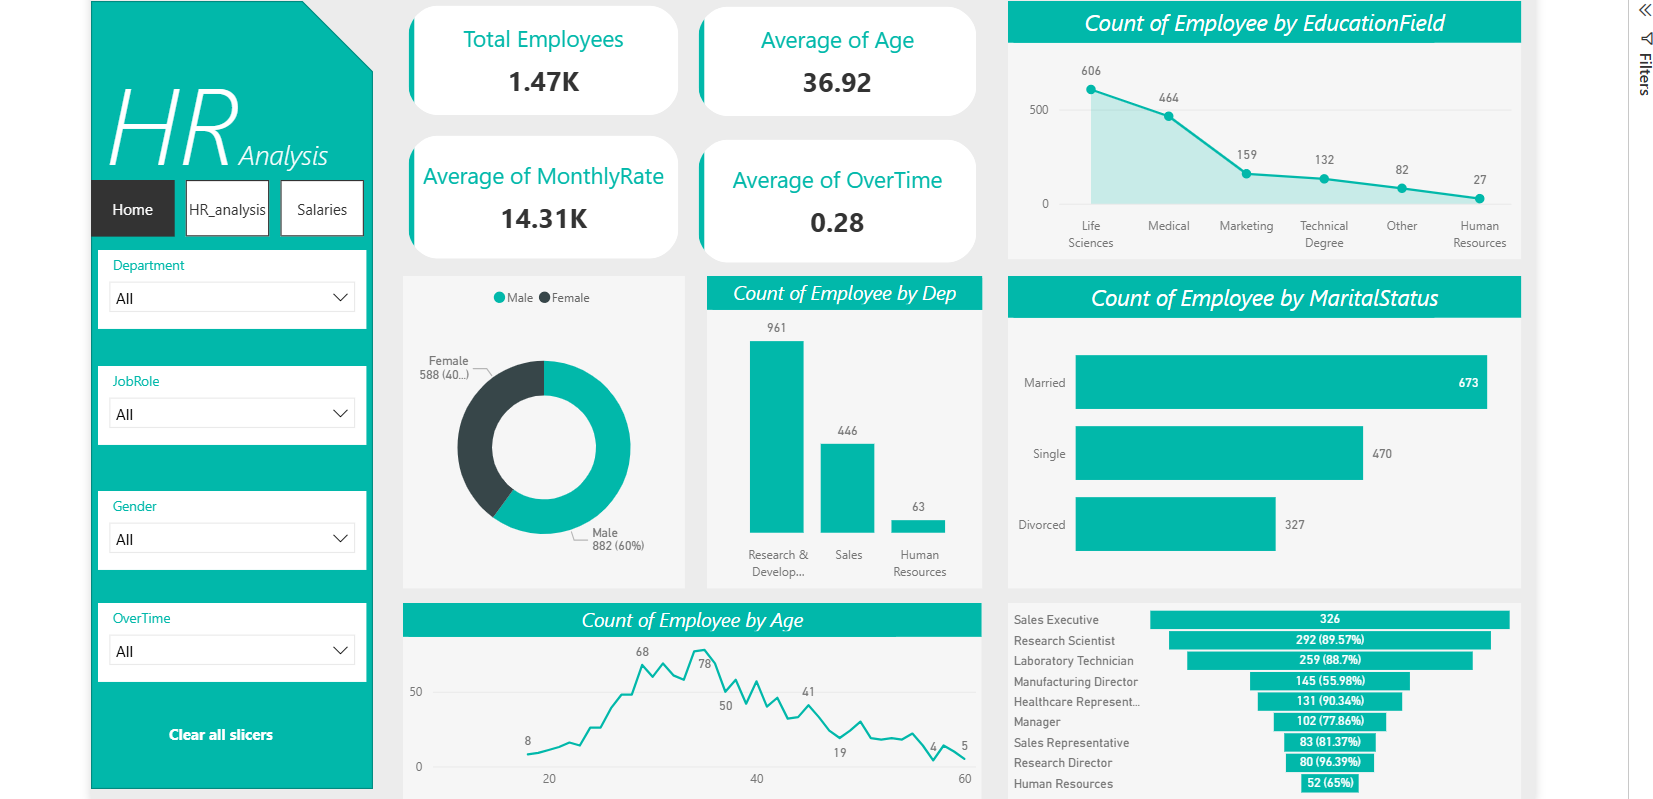

The dashboard page shown, as its layout file describes it:
{"tool":"powerbi","page":{"name":"HR_analysis","canvas":[1280,720],"ordinal":0},"visuals":[{"type":"cardVisual","title":"Total Employees","fields":{"Data":["CountNonNull(Cleaned Data.EmployeeID)"]},"box":[276.7,8,249.2,107.3],"z":0},{"type":"cardVisual","title":"Average Age","fields":{"Data":["Avg(Cleaned Data.Age)"]},"box":[533.8,8.9,256.3,107.3],"z":1000},{"type":"cardVisual","title":"Average of MonthRate","fields":{"Data":["Avg(Cleaned Data.MonthlyRate)"]},"box":[276.7,123.3,249.2,119.7],"z":2000},{"type":"cardVisual","title":"Average Of overtime","fields":{"Data":["Avg(Cleaned Data.OverTime)"]},"box":[533.8,126.8,256.3,119.7],"z":3000},{"type":"donutChart","title":"Count of Employee by Gender","fields":{"Y":["CountNonNull(Cleaned Data.EmployeeID)"],"Category":["Cleaned Data.Gender"]},"box":[276.7,252.7,250,276.7],"z":4000},{"type":"columnChart","title":"Count of Employee by Dep","fields":{"Y":["CountNonNull(Cleaned Data.EmployeeID)"],"Category":["Cleaned Data.Department"]},"box":[546.2,252.7,243.8,276.7],"z":5000},{"type":"lineChart","title":"Count of Employee by Age","fields":{"Y":["CountNonNull(Cleaned Data.EmployeeID)"],"Category":["Cleaned Data.Age"]},"box":[277,542.3,512.8,173.9],"z":6000},{"type":"lineChart","title":"Count of Employee by EducationField","fields":{"Category":["Cleaned Data.EducationField"],"Y":["CountNonNull(Cleaned Data.EmployeeID)"]},"box":[813.1,8.9,454.9,228.8],"z":7000},{"type":"clusteredBarChart","title":"Count of Employee by MaritalStatus","fields":{"Category":["Cleaned Data.MaritalStatus"],"Y":["CountNonNull(Cleaned Data.EmployeeID)"]},"box":[813.1,252.7,454.9,276.7],"z":8000},{"type":"funnel","title":"Count of Employee by JobRole","fields":{"Y":["CountNonNull(Cleaned Data.EmployeeID)"],"Category":["Cleaned Data.JobRole"]},"box":[813.4,542.3,454.8,174.9],"z":9000},{"type":"shape","box":[0,8.9,250,698.7],"z":10000},{"type":"textbox","box":[8,45.2,235.9,192.4],"z":11000},{"type":"slicer","title":"Department","fields":{"Values":["Cleaned Data.Department"]},"box":[6.2,229.7,237.6,70],"z":12000},{"type":"slicer","title":"Department","fields":{"Values":["Cleaned Data.JobRole"]},"box":[6.2,332.5,237.6,70],"z":13000},{"type":"slicer","title":"Department","fields":{"Values":["Cleaned Data.Gender"]},"box":[6.2,443.3,237.6,70],"z":14000},{"type":"slicer","title":"Department","fields":{"Values":["Cleaned Data.OverTime"]},"box":[6.2,542.7,237.6,70],"z":15000},{"type":"actionButton","box":[15.1,634,200.4,49.7],"z":16000},{"type":"bookmarkNavigator","box":[0,167.7,244.1,50.2],"z":16009}]}

Visuals, with their boxes on the page's 1280x720 design canvas (x1, y1, x2, y2). These are canvas units, not pixel positions in the 1653x799 screenshot, which may show the page scaled, cropped or inside an application window:
"Total Employees" cardVisual: <bbox>277, 8, 526, 115</bbox>
"Average Age" cardVisual: <bbox>534, 9, 790, 116</bbox>
"Average of MonthRate" cardVisual: <bbox>277, 123, 526, 243</bbox>
"Average Of overtime" cardVisual: <bbox>534, 127, 790, 246</bbox>
"Count of Employee by Gender" donutChart: <bbox>277, 253, 527, 529</bbox>
"Count of Employee by Dep" columnChart: <bbox>546, 253, 790, 529</bbox>
"Count of Employee by Age" lineChart: <bbox>277, 542, 790, 716</bbox>
"Count of Employee by EducationField" lineChart: <bbox>813, 9, 1268, 238</bbox>
"Count of Employee by MaritalStatus" clusteredBarChart: <bbox>813, 253, 1268, 529</bbox>
"Count of Employee by JobRole" funnel: <bbox>813, 542, 1268, 717</bbox>
shape: <bbox>0, 9, 250, 708</bbox>
textbox: <bbox>8, 45, 244, 238</bbox>
"Department" slicer: <bbox>6, 230, 244, 300</bbox>
"Department" slicer: <bbox>6, 332, 244, 402</bbox>
"Department" slicer: <bbox>6, 443, 244, 513</bbox>
"Department" slicer: <bbox>6, 543, 244, 613</bbox>
actionButton: <bbox>15, 634, 216, 684</bbox>
bookmarkNavigator: <bbox>0, 168, 244, 218</bbox>
